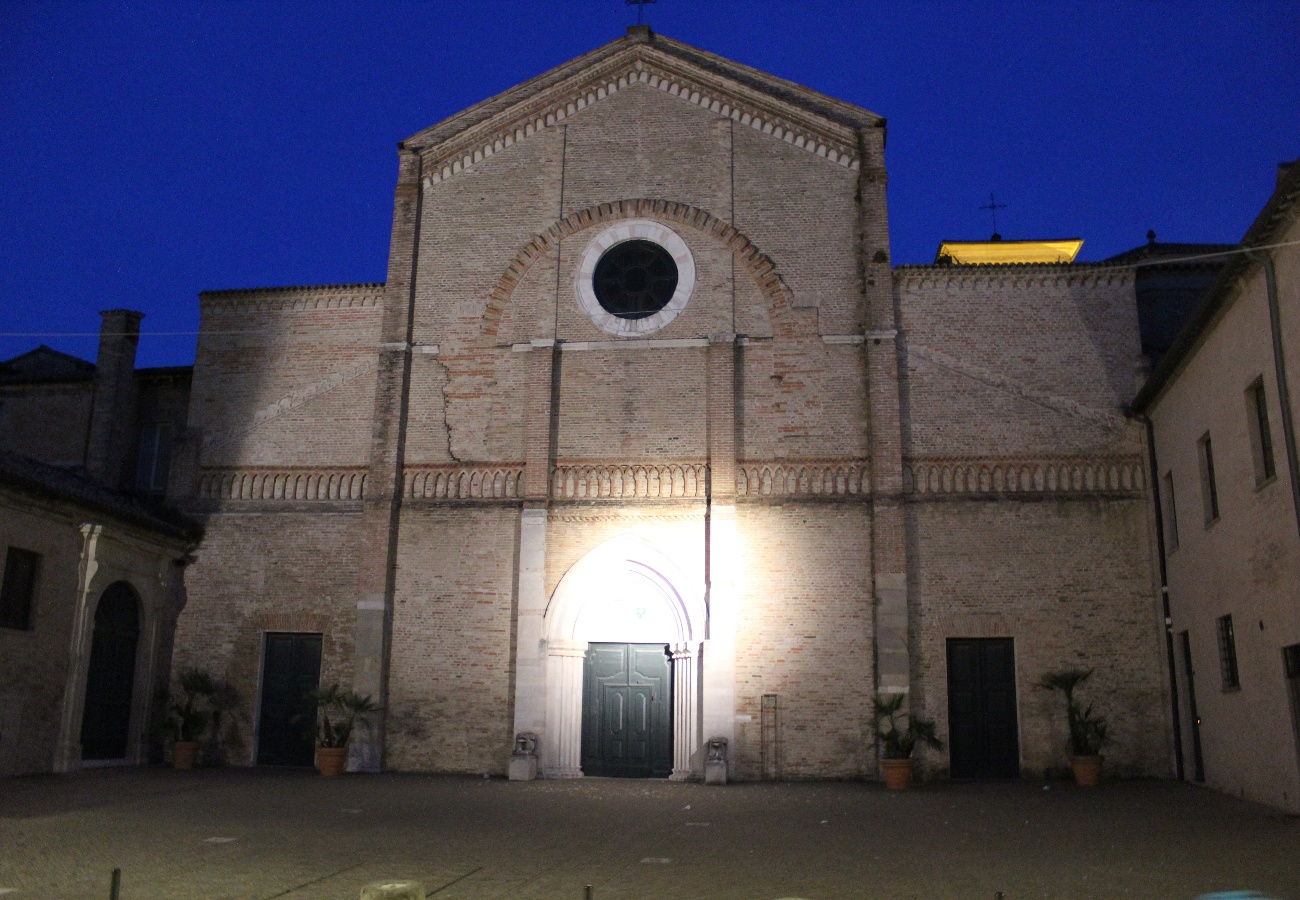Cattedrale Santa Maria Assunta: (197, 25, 1141, 787)
